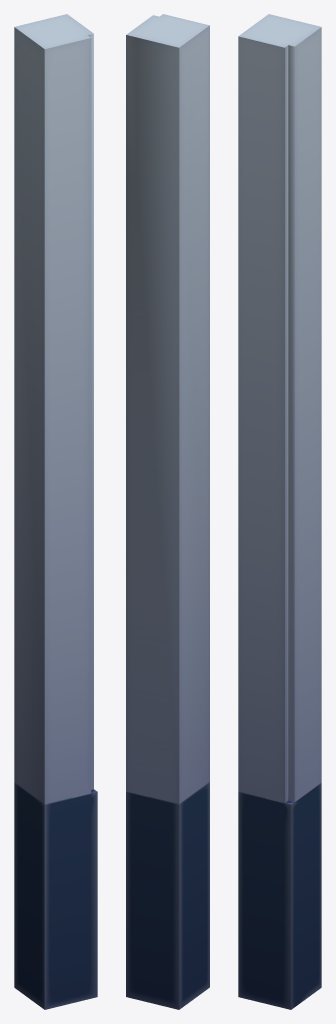
The model's file is wall1_in_low.fbx.
The picture shows the model from 3 angles, left to right: view 1: azimuth 30°, elevation 25°; view 2: azimuth 150°, elevation 25°; view 3: azimuth 330°, elevation 25°; orthographic projection.
Visible parts, largest first — view 1: side_in_low.001; view 2: side_in_low.001; view 3: side_in_low.001.
Boxes of the visible parts, left/top/right/bottom form: side_in_low.001: left=14, top=14, right=97, bottom=1009; side_in_low.001: left=126, top=14, right=209, bottom=1009; side_in_low.001: left=238, top=14, right=321, bottom=1009.
Bounding box in the file's own units: 150 × 2600 × 150.
